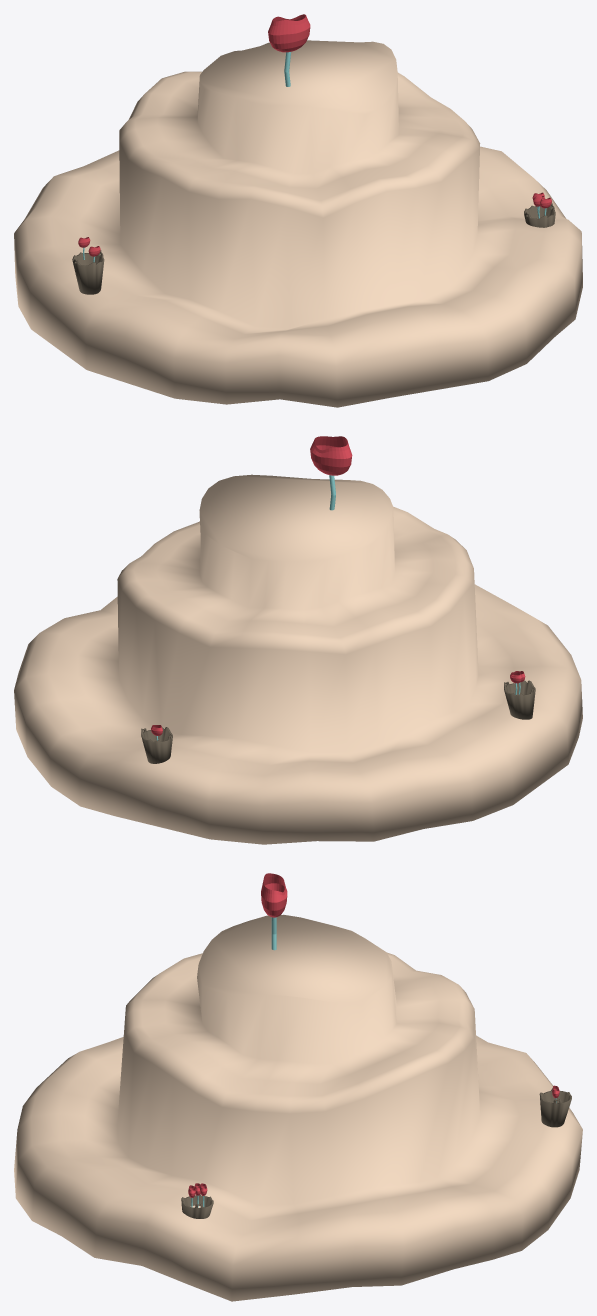
The model's file is dodai-5.glb.
3 views of the same model, one above another, from view 1: azimuth 30°, elevation 25°; view 2: azimuth 150°, elevation 25°; view 3: azimuth 270°, elevation 25° (orthographic).
Visible parts, largest first — view 1: dodai; view 2: dodai; view 3: dodai.
Boxes of the visible parts, x1,y1,x2,y2 form: dodai: (14, 14, 582, 407); dodai: (14, 436, 582, 844); dodai: (14, 873, 582, 1301).
Size of the model in its own units: 6.82 by 3.94 by 6.86.
